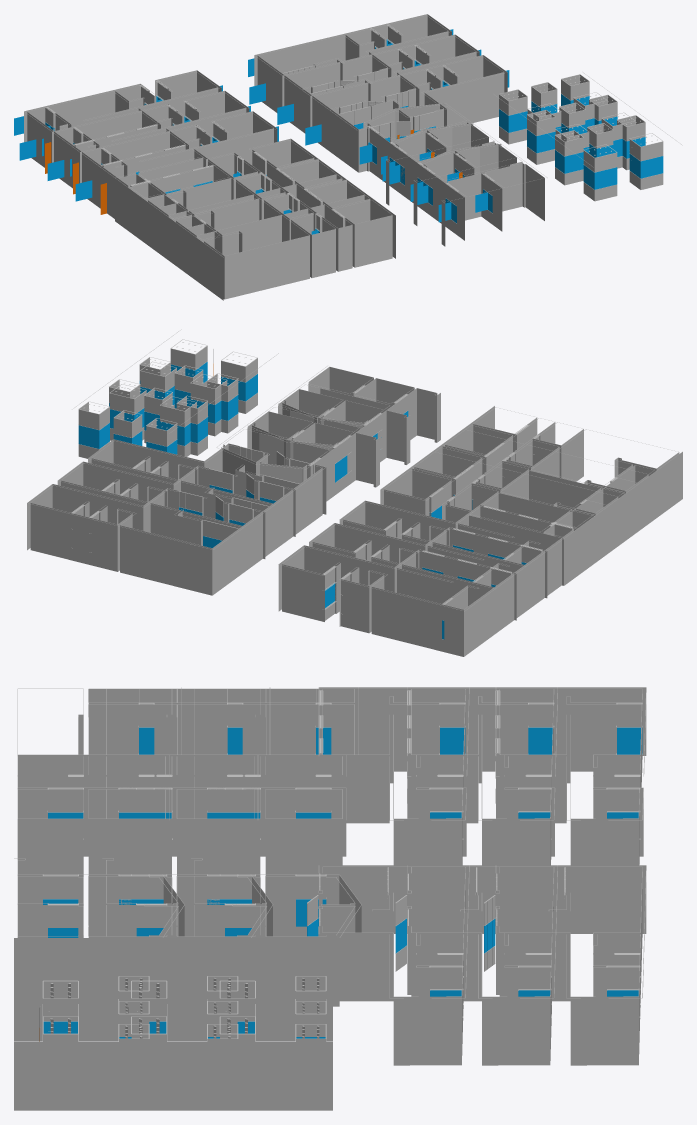
3 views of the same model, one above another, from view 1: azimuth 30°, elevation 25°; view 2: azimuth 150°, elevation 25°; view 3: azimuth 270°, elevation 25° (orthographic). The views are drawn at different scales.
Visible parts, largest first — view 1: world; view 2: world; view 3: world.
Part boxes in pixels (x1=…): world: x1=14, y1=14, x2=682, y2=300; world: x1=27, y1=329, x2=682, y2=656; world: x1=14, y1=687, x2=646, y2=1110.
Bounding box in the file's own units: 34.75 × 3 × 26.46.
Materials: 1 (1 with a texture image).
